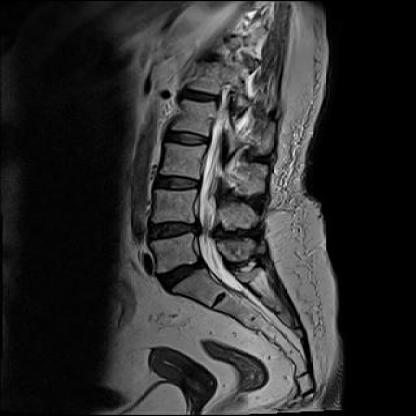Disc Bulgerotation: (159, 262, 207, 286), (148, 220, 203, 239)
